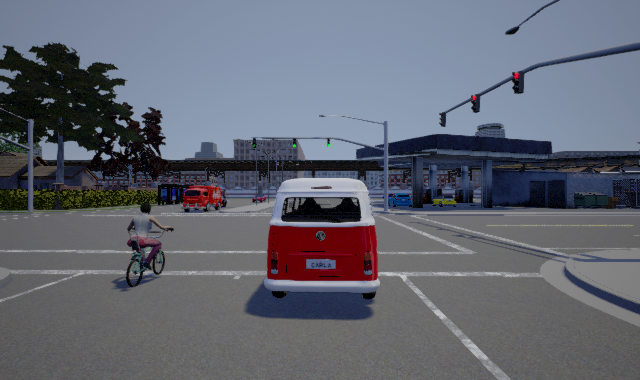bike: (126, 200, 175, 287)
traffic_light: (512, 71, 524, 94), (471, 94, 480, 113), (439, 112, 446, 127), (253, 138, 256, 148), (327, 138, 330, 147), (293, 138, 296, 147)
vehicle: (264, 178, 380, 299), (181, 186, 227, 212), (388, 193, 412, 207)
